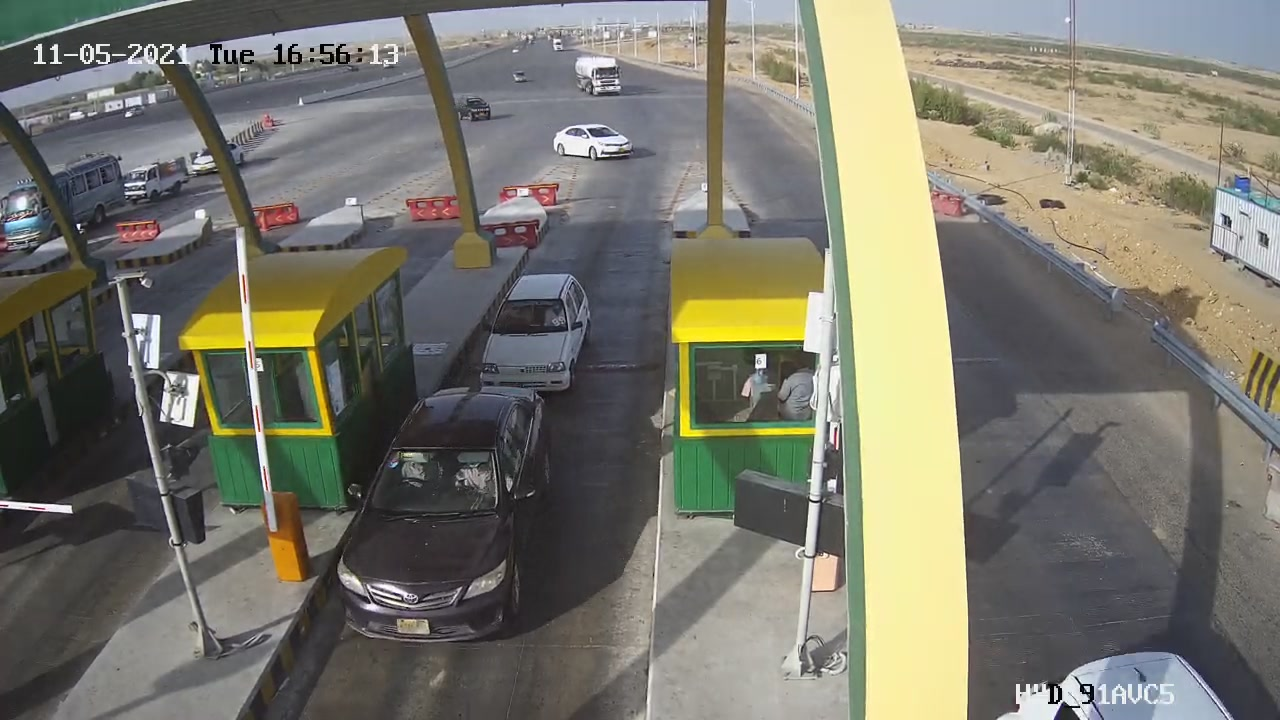F1: (467, 262, 611, 420)
